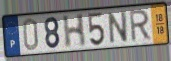0: (21, 17, 40, 53)
5: (87, 11, 106, 47)
8: (43, 16, 62, 50)
H: (62, 12, 87, 50)
N: (108, 10, 129, 46)
R: (129, 9, 153, 44)
